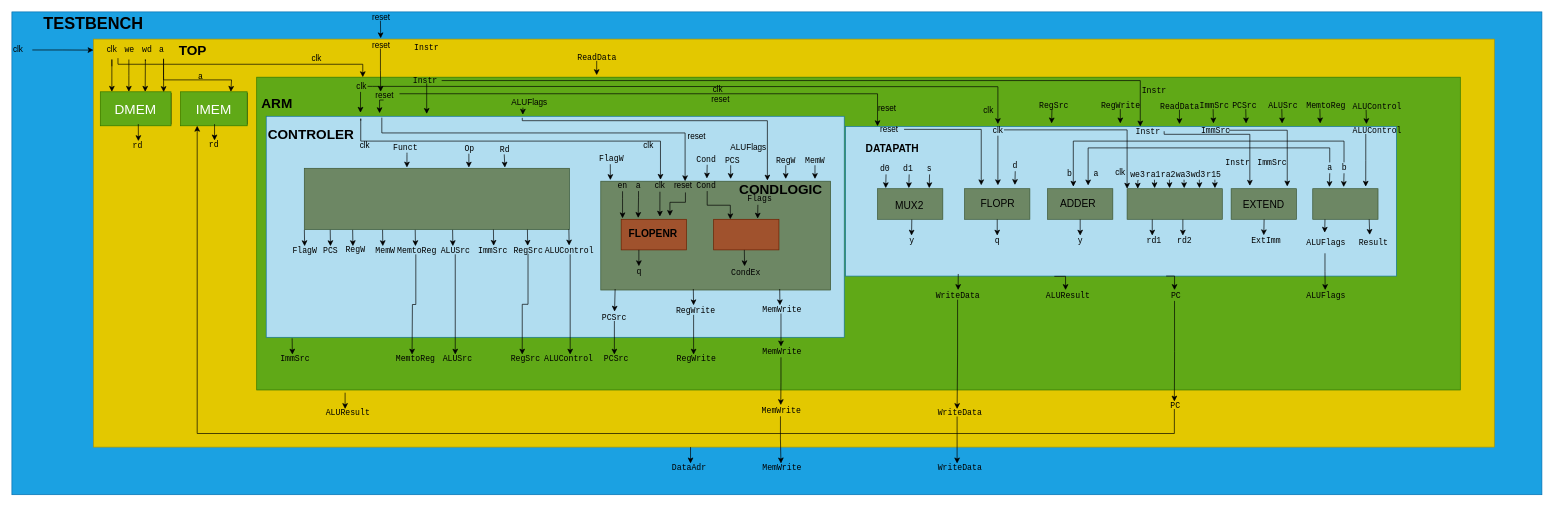
Image size: 1554x507. Some labels were removed from this diagram. Here are the shapes that lost their labels. From the top down, the centre of each, then its label:
At [437,199]: "DECODER".
At [1174,203]: "REGFILE".
At [1345,203]: "ALU".
At [746,234]: "CONDCHECK".
